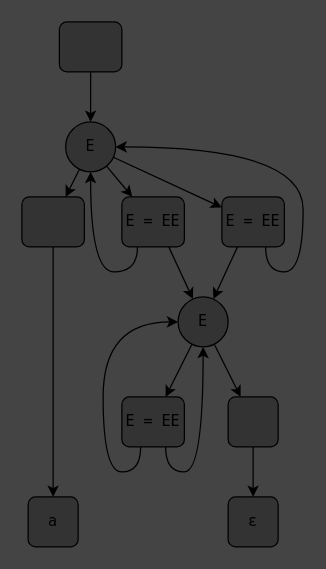
Image size: 326x569. Some labels were removed from this diagram. Each missing label, with the centre of its shape:
"E =" goes at (252,421).
"E = a" goes at (52,221).
"S = E" goes at (90,46).
